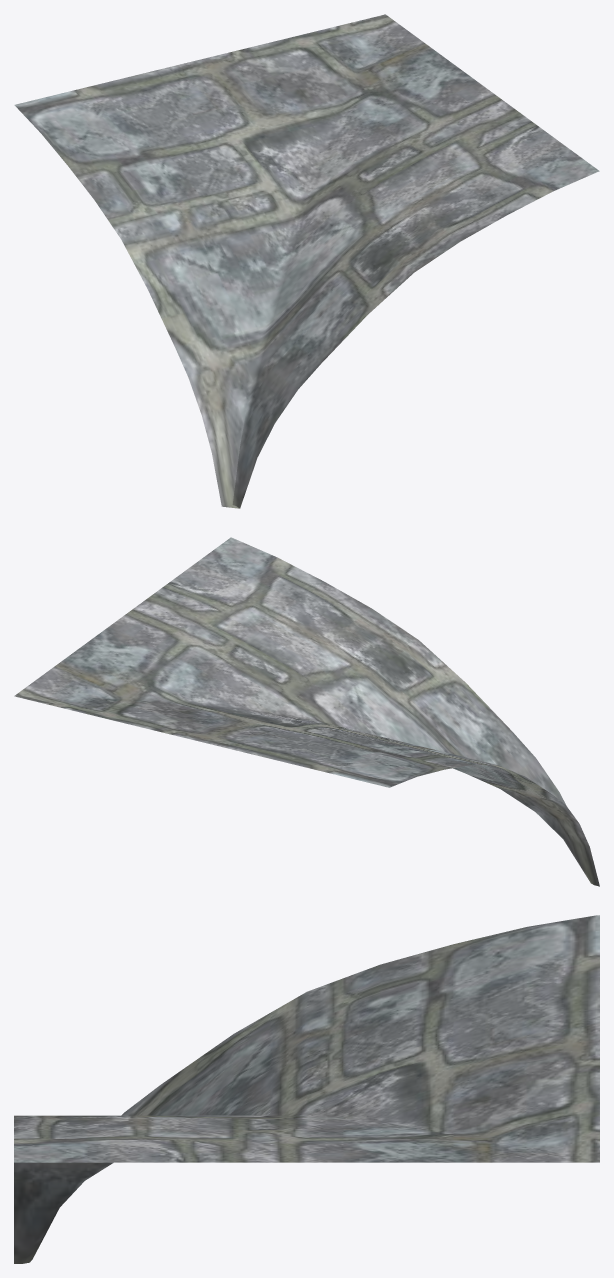
Rendered from SM_Ceiling_Piece.glb.
3 views of the same model, one above another, from view 1: azimuth 30°, elevation 25°; view 2: azimuth 150°, elevation 25°; view 3: azimuth 270°, elevation 25° (orthographic). The views are drawn at different scales.
Parts seen in each view (by area): view 1: SM_Ceiling_Piece; view 2: SM_Ceiling_Piece; view 3: SM_Ceiling_Piece.
Boxes of the visible parts, <box> form: SM_Ceiling_Piece: <box>14,14,599,508</box>; SM_Ceiling_Piece: <box>14,537,599,886</box>; SM_Ceiling_Piece: <box>14,915,599,1263</box>.
Bounding box in the file's own units: 3 × 1.93 × 3.
Materials: 1 (1 with a texture image).
